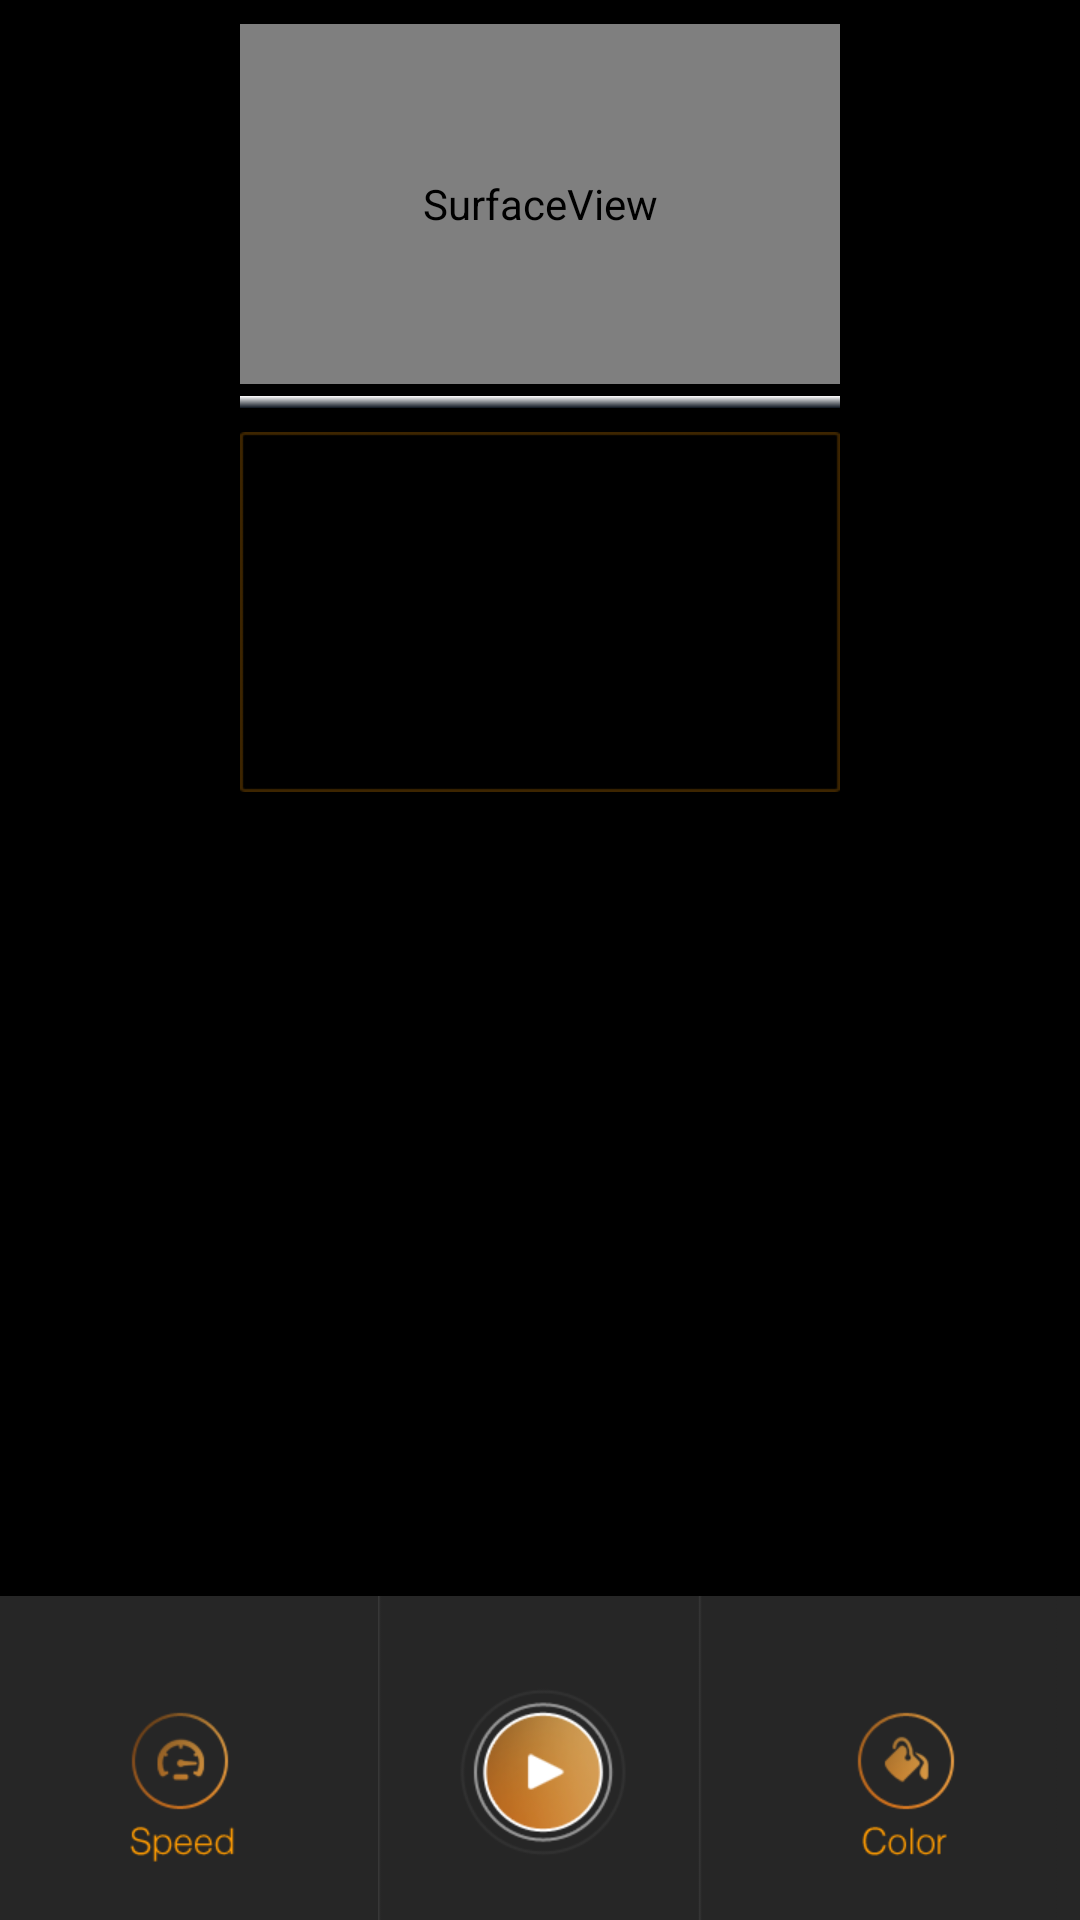

Icons on this 1080 × 1920 Android screen, each with the point to tap as (x,y):
play: (543,1772)
